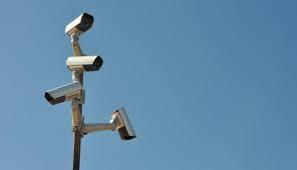tutu: (110, 104, 138, 144), (43, 79, 86, 105), (65, 9, 95, 36), (65, 54, 106, 71)
